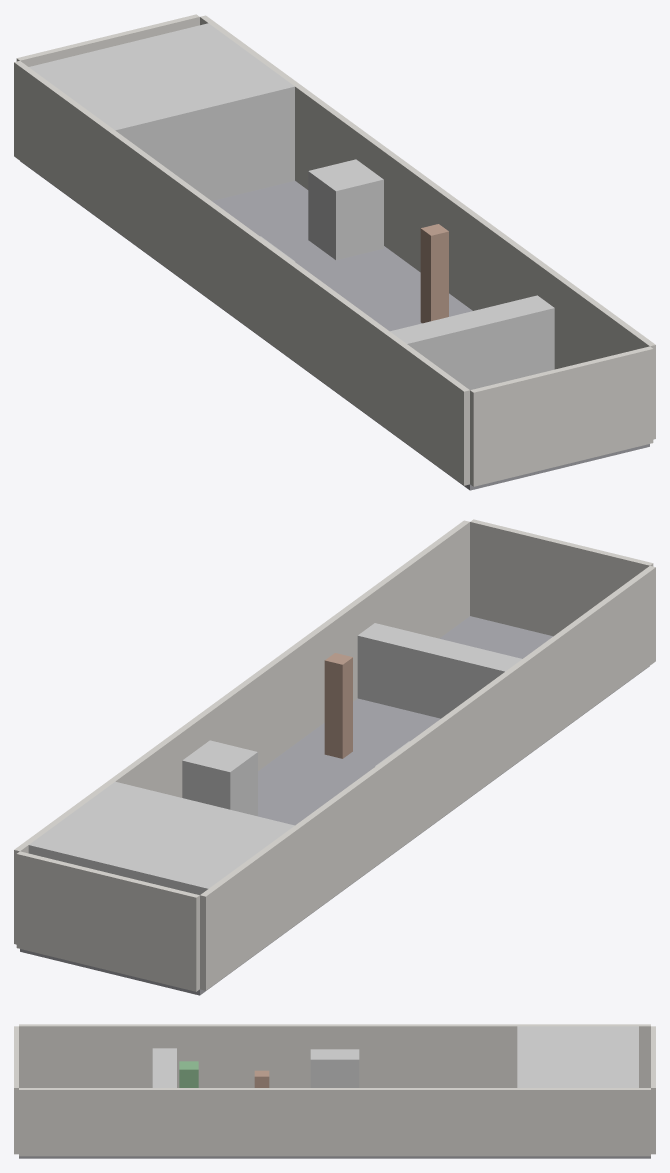
Rendered from test_greybox.glb.
3 renders of one model, top to bottom at view 1: azimuth 30°, elevation 25°; view 2: azimuth 150°, elevation 25°; view 3: azimuth 270°, elevation 25°, orthographic. The views are drawn at different scales.
Visible parts, largest first — view 1: VIS_wall_L, ZONE_elevatorHall__stimulus=crowd__intensity=0.6, VIS_wall_R, VIS_wall_home, VIS_floor, TRG_phone__eventId=landlordCall__once=true, SAFE_trashroom__capacity=1__noiseAfterSec=45, VIS_pillar, VIS_wall_elevator; view 2: VIS_wall_L, VIS_wall_R, VIS_wall_elevator, ZONE_elevatorHall__stimulus=crowd__intensity=0.6, VIS_floor, VIS_wall_home, TRG_phone__eventId=landlordCall__once=true, SAFE_trashroom__capacity=1__noiseAfterSec=45, VIS_pillar; view 3: VIS_wall_R, VIS_wall_L, ZONE_elevatorHall__stimulus=crowd__intensity=0.6, HIDE_alcove__detectScale=0.5, VIS_floor, TRG_phone__eventId=landlordCall__once=true, VIS_wall_home, VIS_wall_elevator, VIS_planter, VIS_pillar.
Part boxes in pixels (x1,y1,x2,y2): VIS_wall_L: (14,61,469,485); ZONE_elevatorHall__stimulus=crowd__intensity=0.6: (29,23,294,200); VIS_wall_R: (200,15,655,439); VIS_wall_home: (470,346,653,486); VIS_floor: (20,161,649,490); TRG_phone__eventId=landlordCall__once=true: (390,295,554,389); SAFE_trashroom__capacity=1__noiseAfterSec=45: (308,159,383,259); VIS_pillar: (420,224,448,323); VIS_wall_elevator: (16,14,199,66); VIS_wall_L: (200,566,655,990); VIS_wall_R: (14,520,469,944); VIS_wall_elevator: (16,851,199,991); ZONE_elevatorHall__stimulus=crowd__intensity=0.6: (28,781,294,894); VIS_floor: (20,616,649,995); VIS_wall_home: (470,519,653,636); TRG_phone__eventId=landlordCall__once=true: (357,623,521,718); SAFE_trashroom__capacity=1__noiseAfterSec=45: (182,740,257,816); VIS_pillar: (324,653,352,758); VIS_wall_R: (19,1088,650,1156); VIS_wall_L: (19,1024,650,1087); ZONE_elevatorHall__stimulus=crowd__intensity=0.6: (517,1026,638,1087); HIDE_alcove__detectScale=0.5: (310,1049,359,1087); VIS_floor: (19,1156,650,1158); TRG_phone__eventId=landlordCall__once=true: (152,1048,176,1087); VIS_wall_home: (14,1026,18,1154); VIS_wall_elevator: (651,1026,655,1154); VIS_planter: (179,1061,198,1087); VIS_pillar: (254,1070,269,1087).
Size of the model in its own units: 6.4 by 3.2 by 26.4.
